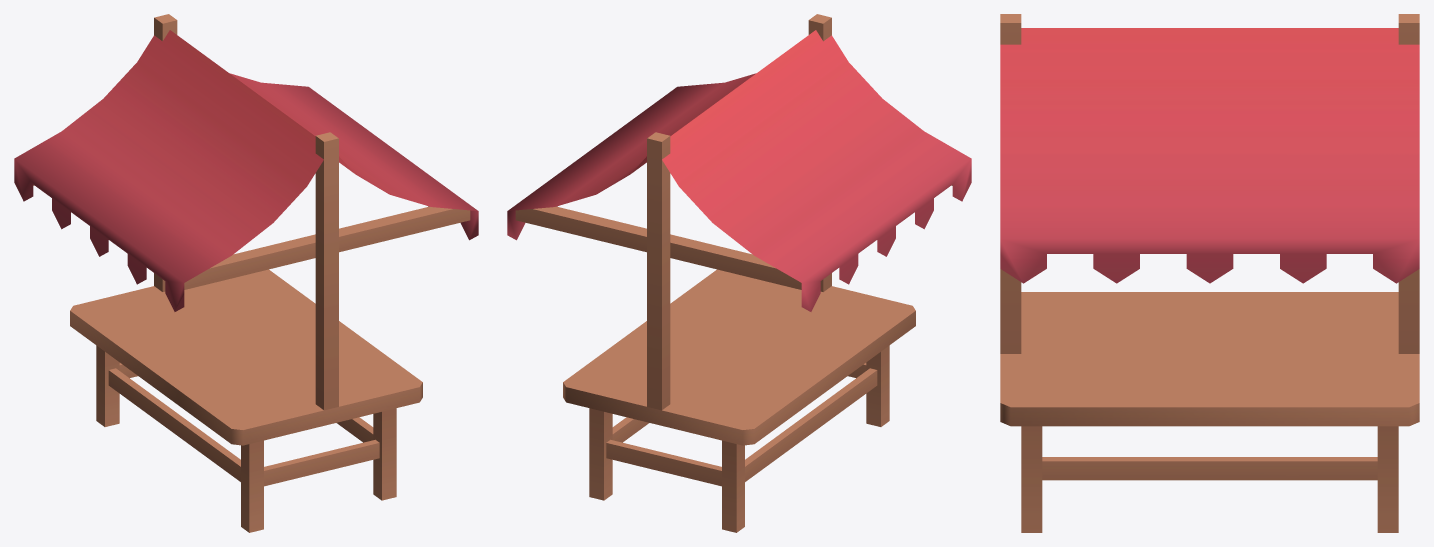
Rendered from etal.glb.
3 renders of one model, left to right at view 1: azimuth 30°, elevation 25°; view 2: azimuth 150°, elevation 25°; view 3: azimuth 270°, elevation 25°, orthographic. The views are drawn at different scales.
Parts seen in each view (by area): view 1: stall-red; view 2: stall-red; view 3: stall-red.
Part boxes in pixels (bbox=[...]): stall-red: bbox=[14, 14, 478, 532]; stall-red: bbox=[507, 14, 971, 532]; stall-red: bbox=[1000, 14, 1419, 532].
Bounding box in the file's own units: 3 × 3.71 × 3.
1 material, 1 textured.
